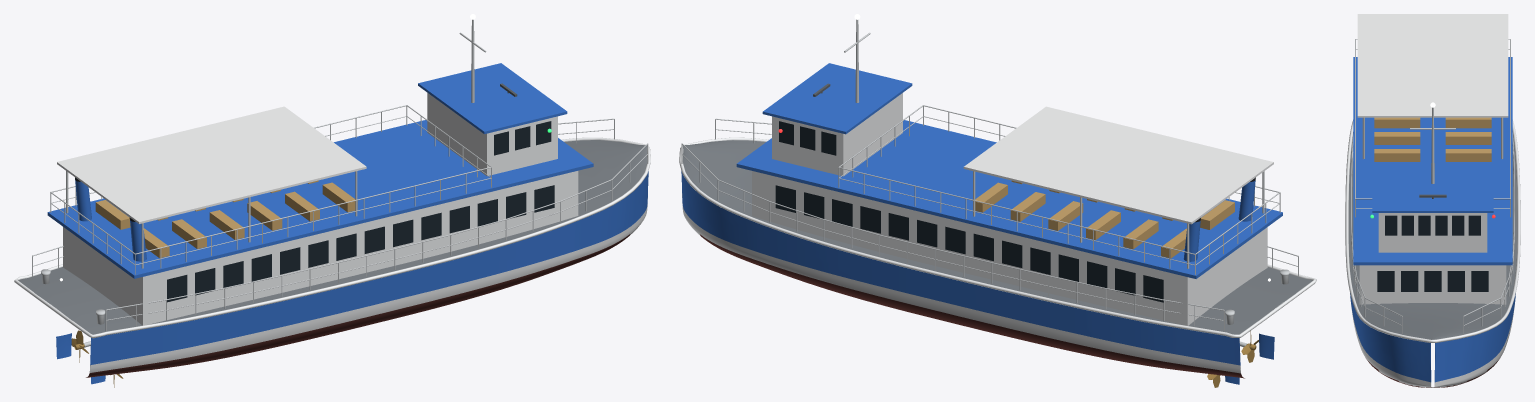
Rendered from ferry.glb.
The picture shows the model from 3 angles, left to right: view 1: azimuth 30°, elevation 25°; view 2: azimuth 150°, elevation 25°; view 3: azimuth 270°, elevation 25°; orthographic projection. The views are drawn at different scales.
Parts seen in each view (by area): view 1: hull, upper_deck, canopy, saloon, main_deck, saloon_win_s, wheelhouse_roof, wheelhouse, benches, rub_rail, upper_rails, main_rails_s (+1 smaller); view 2: hull, upper_deck, canopy, saloon, main_deck, saloon_win_p, wheelhouse_roof, wheelhouse, benches, rub_rail, upper_rails, main_rails_p (+1 smaller); view 3: canopy, upper_deck, hull, main_deck, wheelhouse_roof, saloon, benches, wheelhouse, rub_rail, saloon_win_f, wheelhouse_win_f, main_rails_p (+4 smaller).
Part boxes in pixels (<box>): hull: <box>86,171,648,377</box>; upper_deck: <box>47,120,593,278</box>; canopy: <box>57,106,366,223</box>; saloon: <box>63,171,578,325</box>; main_deck: <box>18,140,647,334</box>; saloon_win_s: <box>167,185,554,302</box>; wheelhouse_roof: <box>418,63,567,133</box>; wheelhouse: <box>427,93,557,175</box>; benches: <box>95,180,357,258</box>; rub_rail: <box>14,137,650,338</box>; upper_rails: <box>50,105,491,274</box>; main_rails_s: <box>105,143,648,330</box>; hull: <box>681,171,1244,378</box>; upper_deck: <box>736,120,1282,278</box>; canopy: <box>963,106,1273,224</box>; saloon: <box>752,171,1267,325</box>; main_deck: <box>682,140,1312,334</box>; saloon_win_p: <box>775,185,1163,302</box>; wheelhouse_roof: <box>762,63,912,134</box>; wheelhouse: <box>772,93,902,176</box>; benches: <box>975,180,1234,258</box>; rub_rail: <box>679,137,1316,337</box>; upper_rails: <box>838,105,1280,274</box>; main_rails_p: <box>681,143,1224,331</box>; canopy: <box>1357,14,1508,117</box>; upper_deck: <box>1353,57,1512,265</box>; hull: <box>1350,293,1515,387</box>; main_deck: <box>1348,139,1517,339</box>; wheelhouse_roof: <box>1372,173,1493,212</box>; saloon: <box>1359,265,1506,304</box>; benches: <box>1374,117,1491,161</box>; wheelhouse: <box>1378,213,1487,252</box>; rub_rail: <box>1345,120,1520,342</box>; saloon_win_f: <box>1377,271,1488,291</box>; wheelhouse_win_f: <box>1385,215,1480,235</box>; main_rails_p: <box>1463,132,1514,334</box>.
Size of the model in its own units: 30.17 by 12.97 by 8.36.
